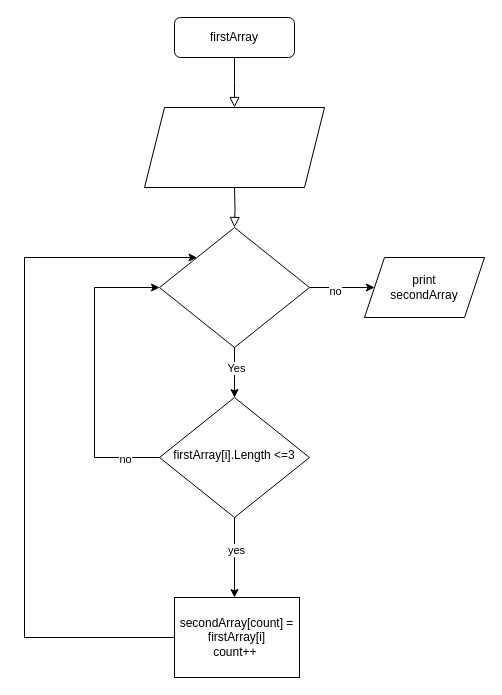
The diagram is 502 pixels wide and 695 high, and some of its shapes have lost their labels. The shapes that lost their labels are listed below. From the top down, each one's centre as x and y in pixels, then its label:
[234,147]: secondArrayLengh = firstArrayLengh count = 0
[234,287]: i = 0; i < firstArrayLengh; i++
